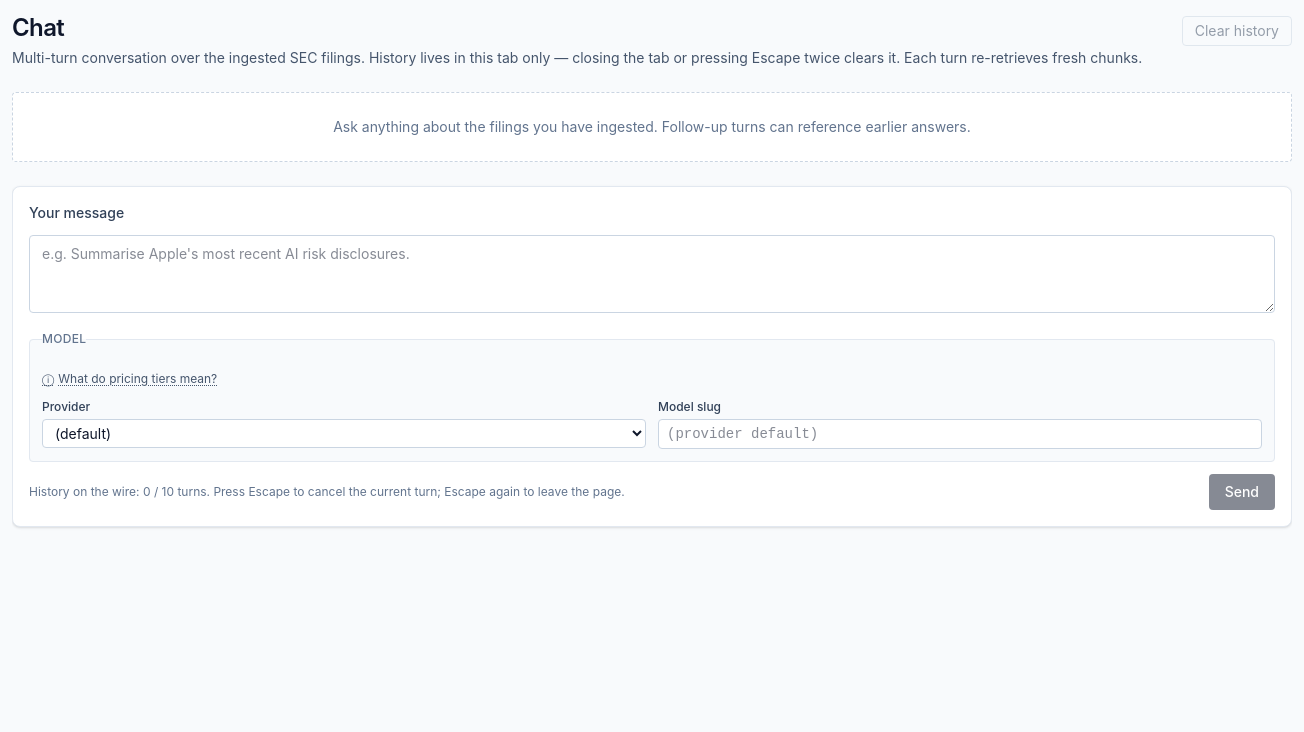
Test: ChatPage — happy path › sends a message, streams the answer, and renders the assistant turn
Type "tell me about AAPL" into the text box labelled "Your message" at (652, 274), box 29,235 -> 1275,313
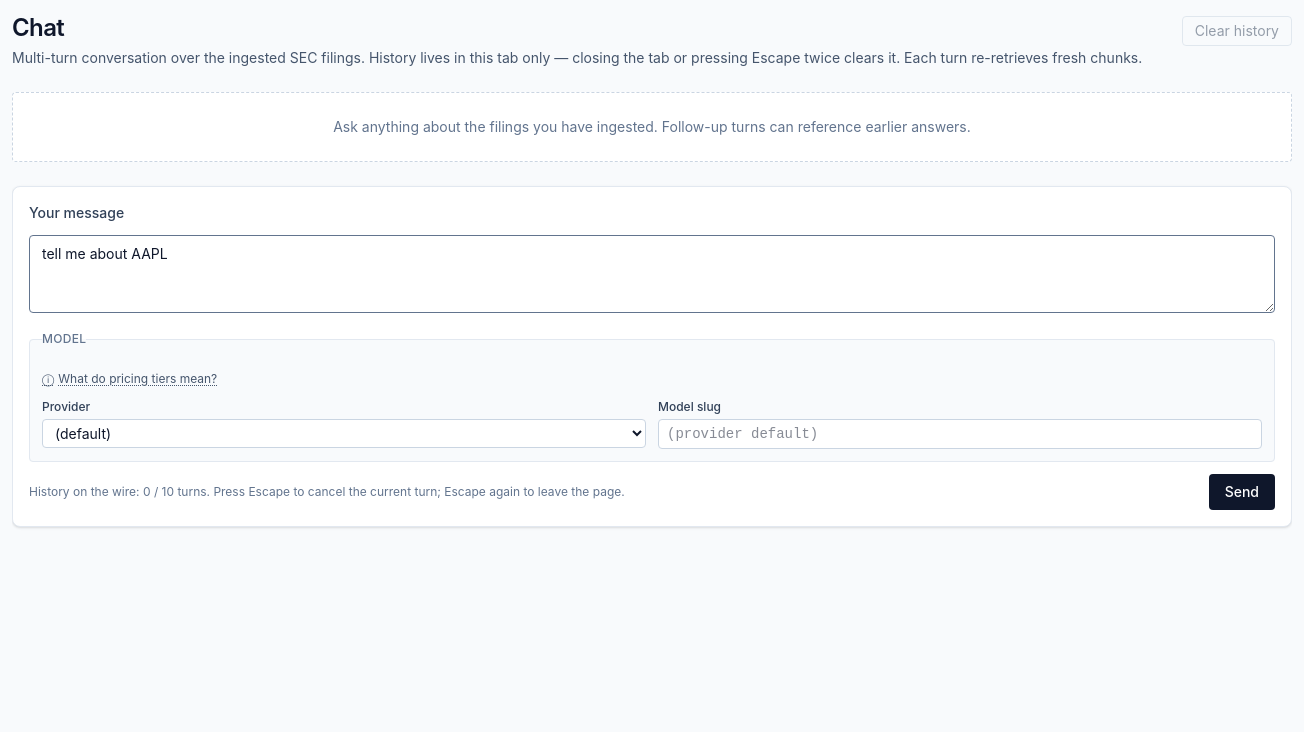
Click the button "Send" at (1242, 492), box 1209,474 -> 1275,510
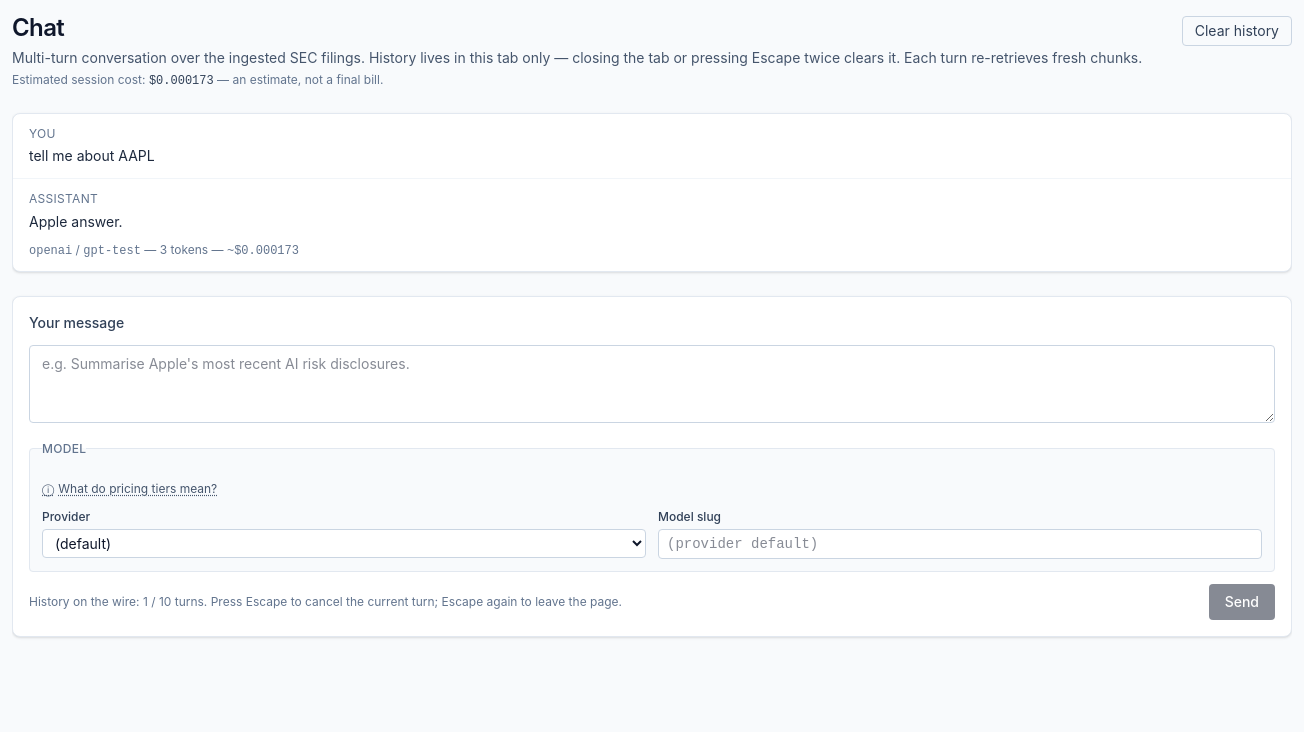
Expected: the text "Apple answer." is shown, 29,213 -> 123,230
Expected: the text "tell me about AAPL" is shown, 29,147 -> 155,164
